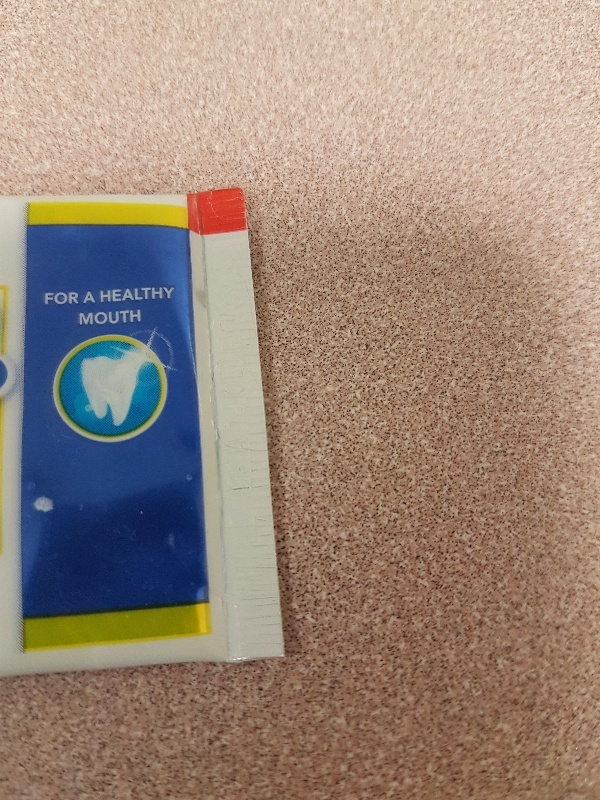text: (113, 286, 128, 303), (129, 286, 144, 303), (145, 286, 160, 303), (81, 310, 96, 326), (97, 310, 112, 326), (113, 310, 128, 326), (161, 286, 174, 303), (129, 310, 142, 326), (100, 286, 112, 303), (49, 292, 64, 305), (65, 292, 79, 305), (84, 291, 96, 304), (45, 292, 48, 305), (79, 310, 80, 326)
